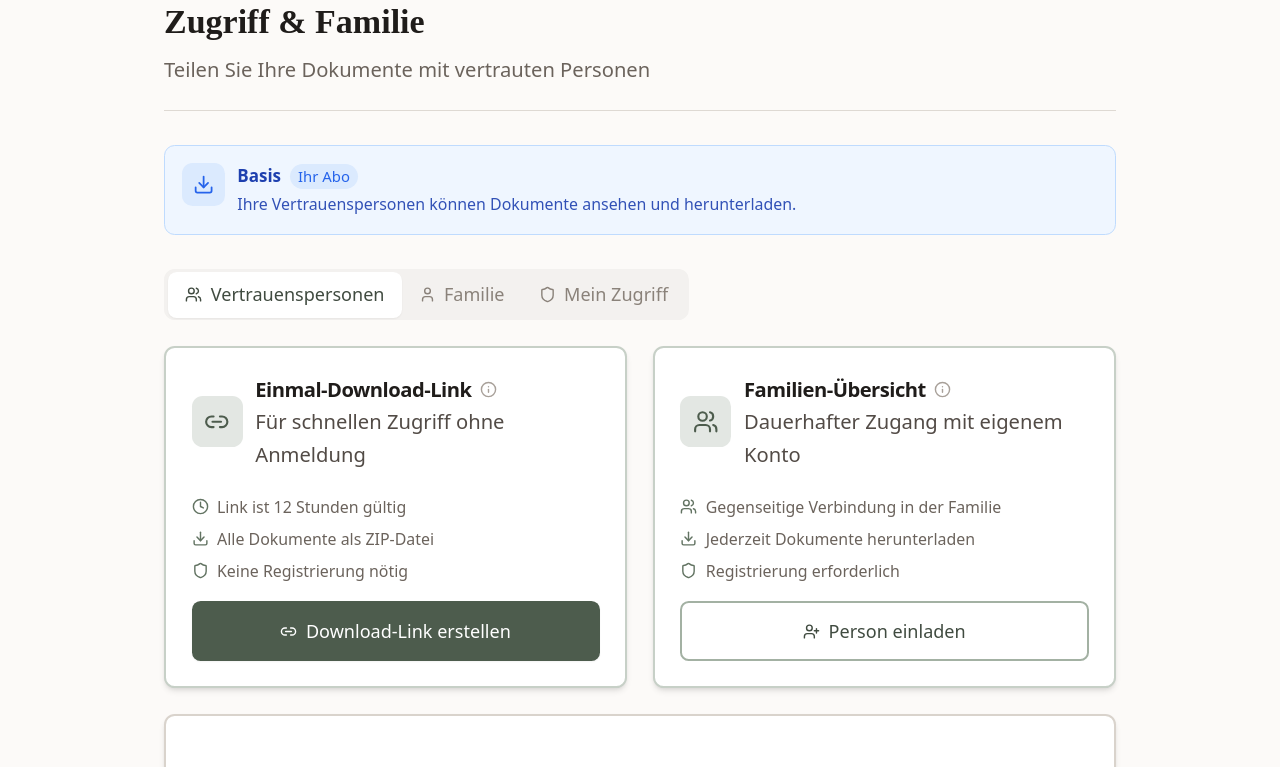
Test: ZugriffPage Familie Tab Full Integration › Tab Navigation Integration › should display family members after switching to Familie tab
Expected: the heading "Zugriff & Familie" is shown, [164,3,425,40]
Note: Click on Familie tab
Click the tab "Familie" at (462, 295), box [402,272,522,318]
(page scrolled)
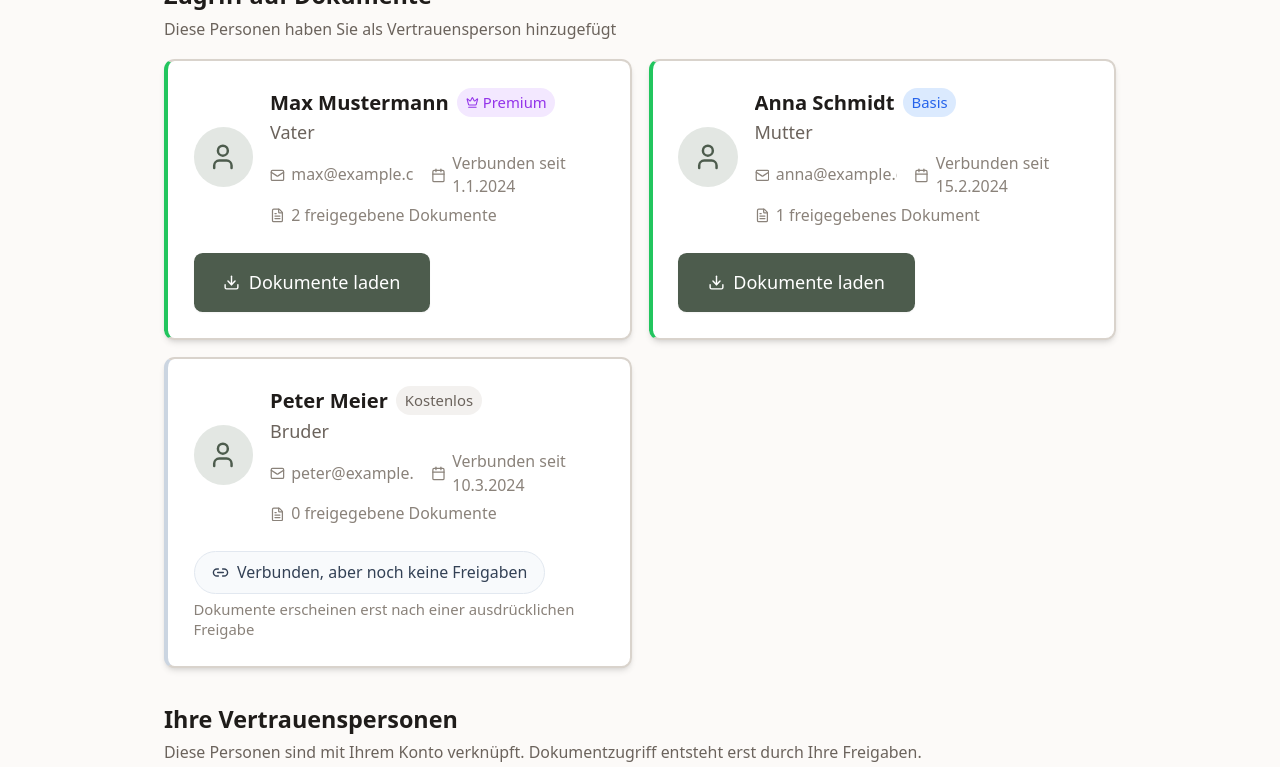
Expected: the heading "Max Mustermann" is shown, [270,86,449,118]
Expected: the heading "Anna Schmidt" is shown, [754,86,895,118]
Expected: the heading "Peter Meier" is shown, [270,384,388,417]
